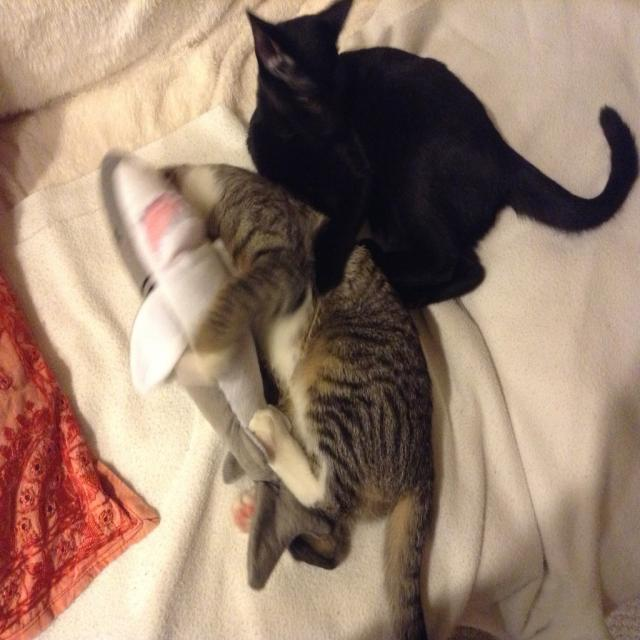Cat: (158, 165, 431, 638), (243, 0, 639, 311)
